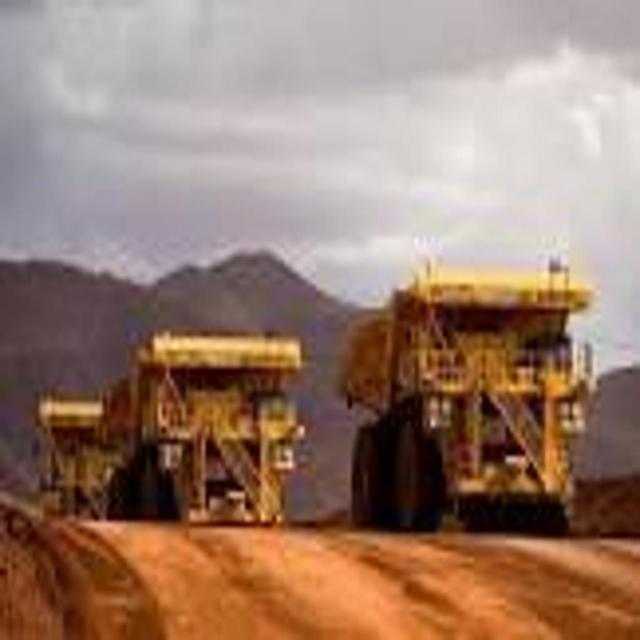dump_truck: (342, 239, 604, 543), (102, 322, 312, 528)
